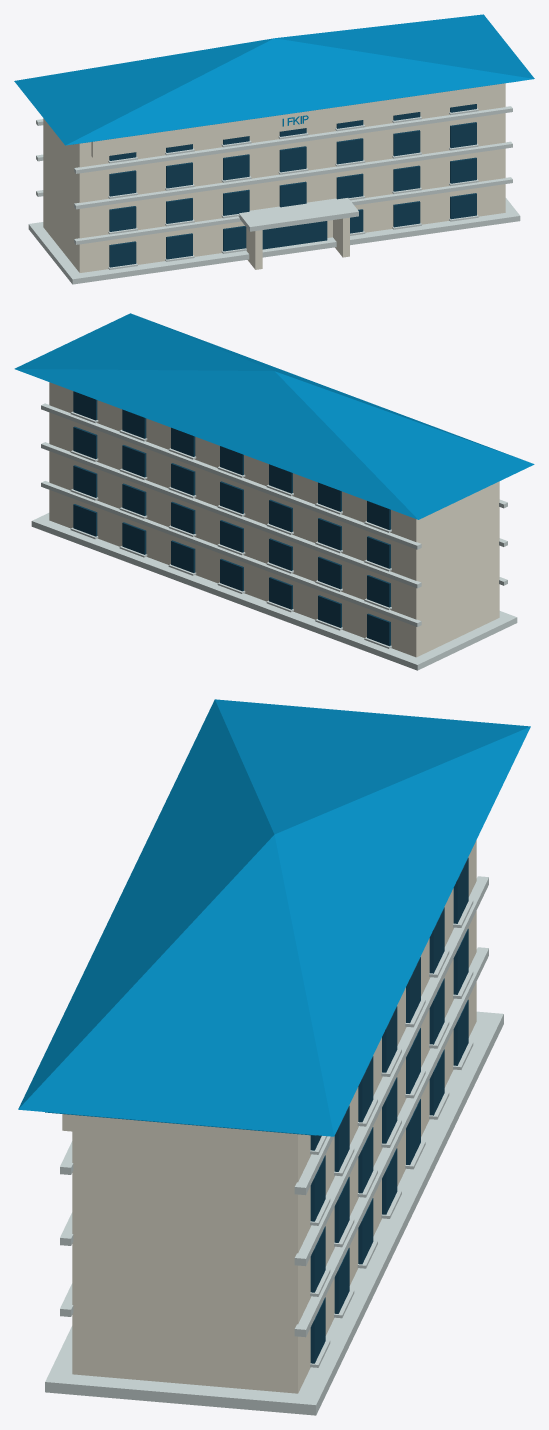
The model's file is fkip.glb.
3 views of the same model, one above another, from view 1: azimuth 30°, elevation 25°; view 2: azimuth 150°, elevation 25°; view 3: azimuth 270°, elevation 25° (orthographic). The views are drawn at different scales.
Parts seen in each view (by area): view 1: FKIP_ivory, FKIP_blue, FKIP_trim, FKIP_glass; view 2: FKIP_blue, FKIP_ivory, FKIP_trim, FKIP_glass; view 3: FKIP_blue, FKIP_ivory, FKIP_trim, FKIP_glass.
Boxes of the visible parts, left/top/right/bottom form: FKIP_ivory: left=43, top=83, right=505, bottom=272; FKIP_blue: left=14, top=14, right=534, bottom=145; FKIP_trim: left=28, top=106, right=520, bottom=284; FKIP_glass: left=109, top=104, right=476, bottom=267; FKIP_blue: left=14, top=313, right=534, bottom=519; FKIP_ivory: left=49, top=382, right=499, bottom=657; FKIP_trim: left=31, top=403, right=517, bottom=670; FKIP_glass: left=73, top=391, right=390, bottom=646; FKIP_blue: left=18, top=699, right=530, bottom=1136; FKIP_ivory: left=62, top=840, right=476, bottom=1393; FKIP_trim: left=45, top=876, right=503, bottom=1415; FKIP_glass: left=310, top=857, right=468, bottom=1363.
Size of the model in its own units: 44.92 by 18.15 by 22.26.
